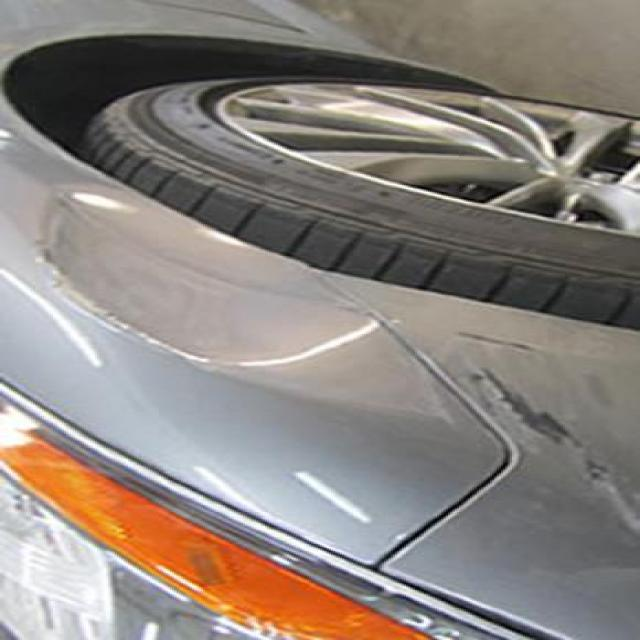scratch: (461, 346, 640, 544)
